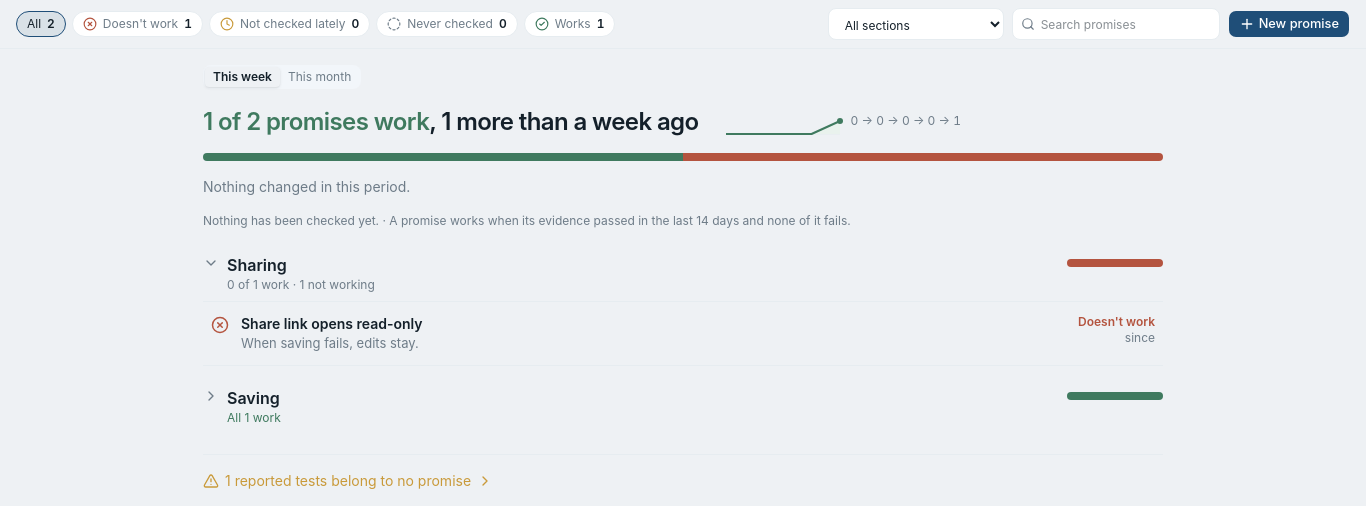
Scenario: TestsView › filters with the status chips and the search in the ribbon
Expected: the text "Share link opens read-only" is shown, x1=241 y1=315 x2=423 y2=332
Expected: the button "All 2" is shown, x1=16 y1=11 x2=66 y2=37
Step 1. Click the button "Works 1" → coordinates (570, 24), box x1=524 y1=11 x2=615 y2=37
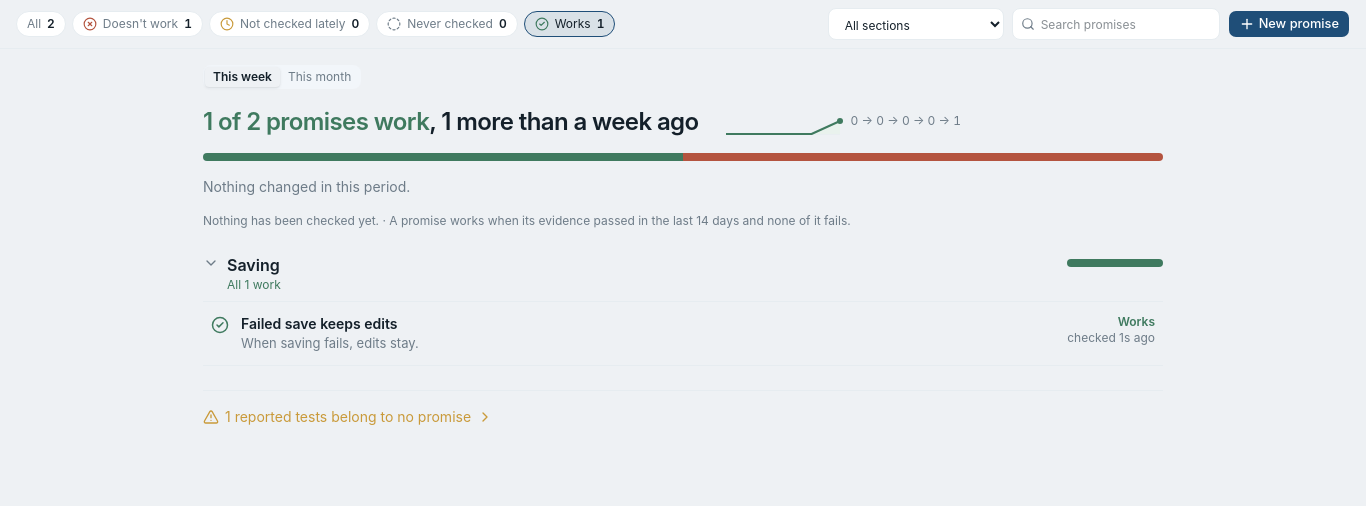
Now the button "Share link opens read-only" is gone
Now the text "Failed save keeps edits" is shown, box x1=241 y1=315 x2=398 y2=332
Step 2. Click the button "All 2" → coordinates (41, 24), box x1=16 y1=11 x2=66 y2=37
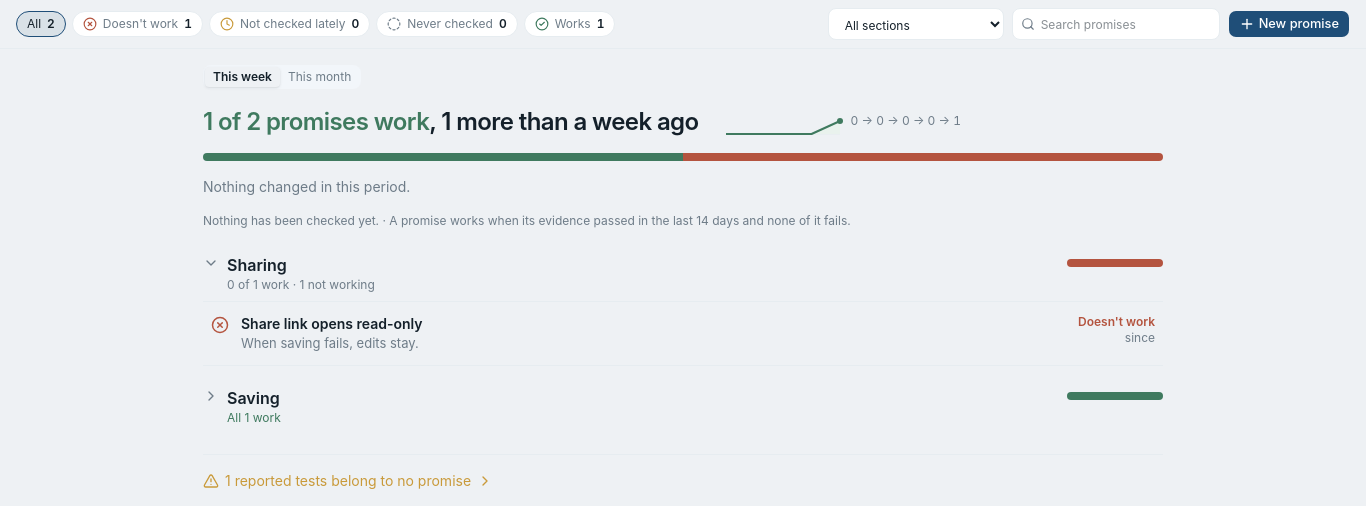
Step 3. Type "nothing like it" into the search field labelled "Search promises" → coordinates (1116, 24), box x1=1013 y1=9 x2=1219 y2=39
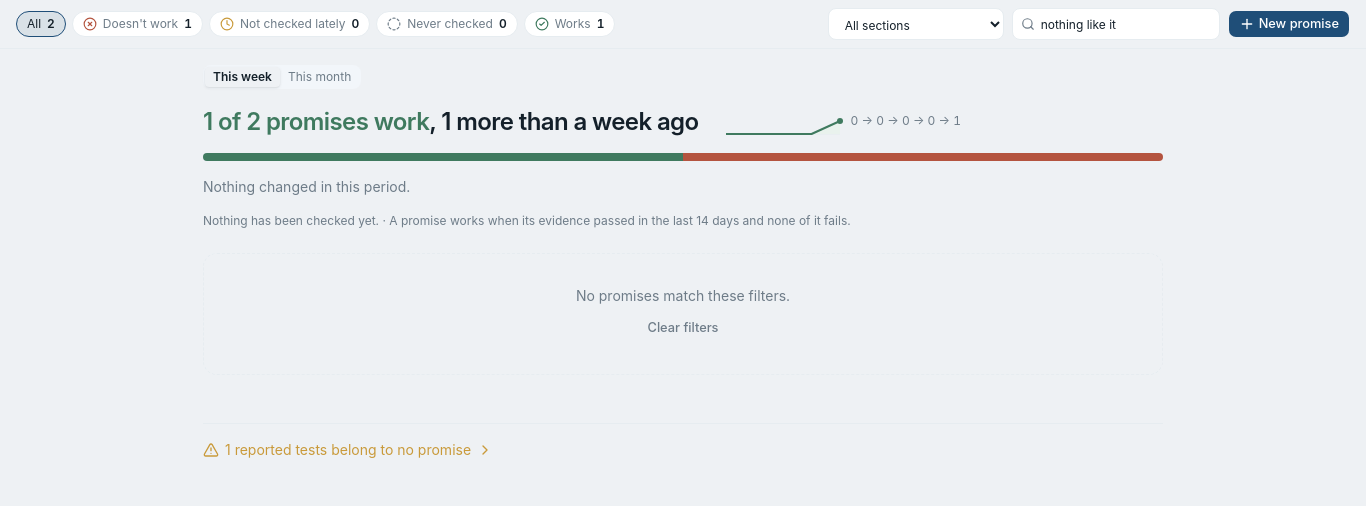
Now the text "No promises match these filters." is shown, box x1=576 y1=287 x2=790 y2=304
Step 4. Click the button "Clear filters" → coordinates (683, 328), box x1=636 y1=314 x2=730 y2=342
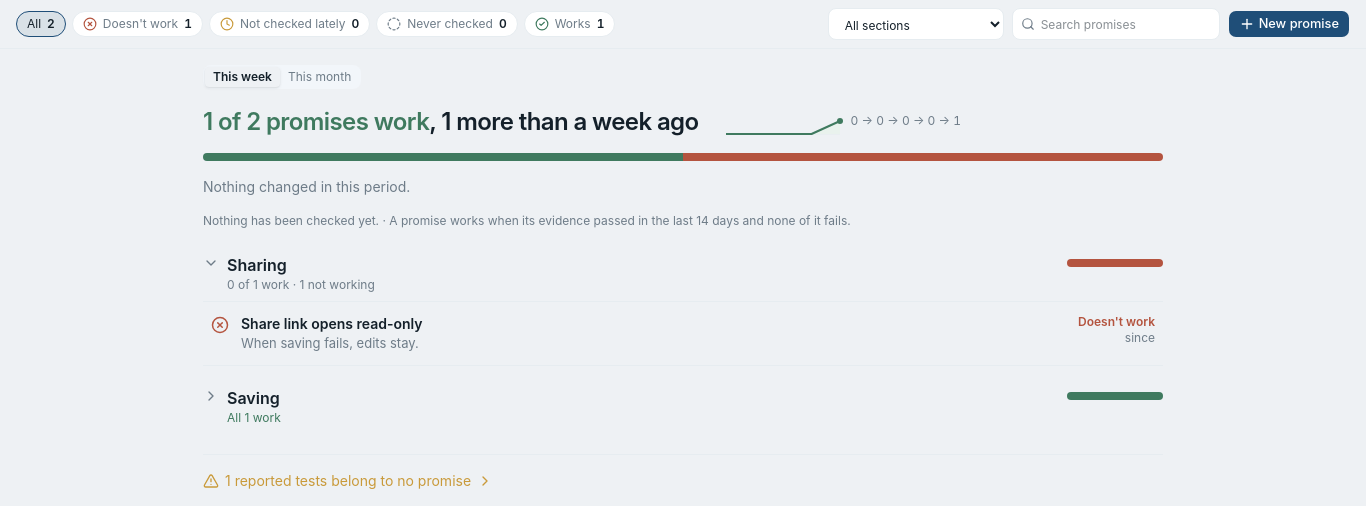
Now the text "Share link opens read-only" is shown, box x1=241 y1=315 x2=423 y2=332
